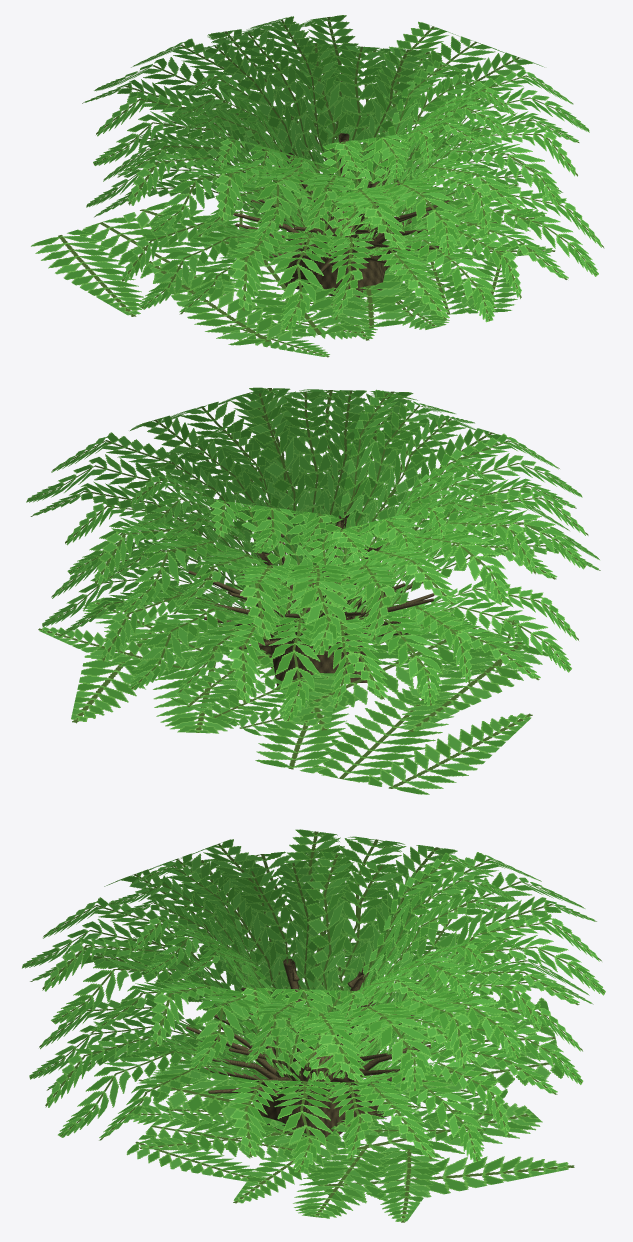
The model's file is forest_fern_clump.glb.
3 renders of one model, top to bottom at view 1: azimuth 30°, elevation 25°; view 2: azimuth 150°, elevation 25°; view 3: azimuth 270°, elevation 25°, orthographic. The views are drawn at different scales.
Visible parts, largest first — view 1: forest_fern_clump; view 2: forest_fern_clump; view 3: forest_fern_clump.
Boxes of the visible parts, bbox=[...] form: forest_fern_clump: bbox=[31, 15, 604, 357]; forest_fern_clump: bbox=[26, 387, 600, 794]; forest_fern_clump: bbox=[22, 829, 605, 1222].
Bounding box in the file's own units: 2.16 × 0.8731 × 2.16.
Materials: 2 (2 with a texture image).
